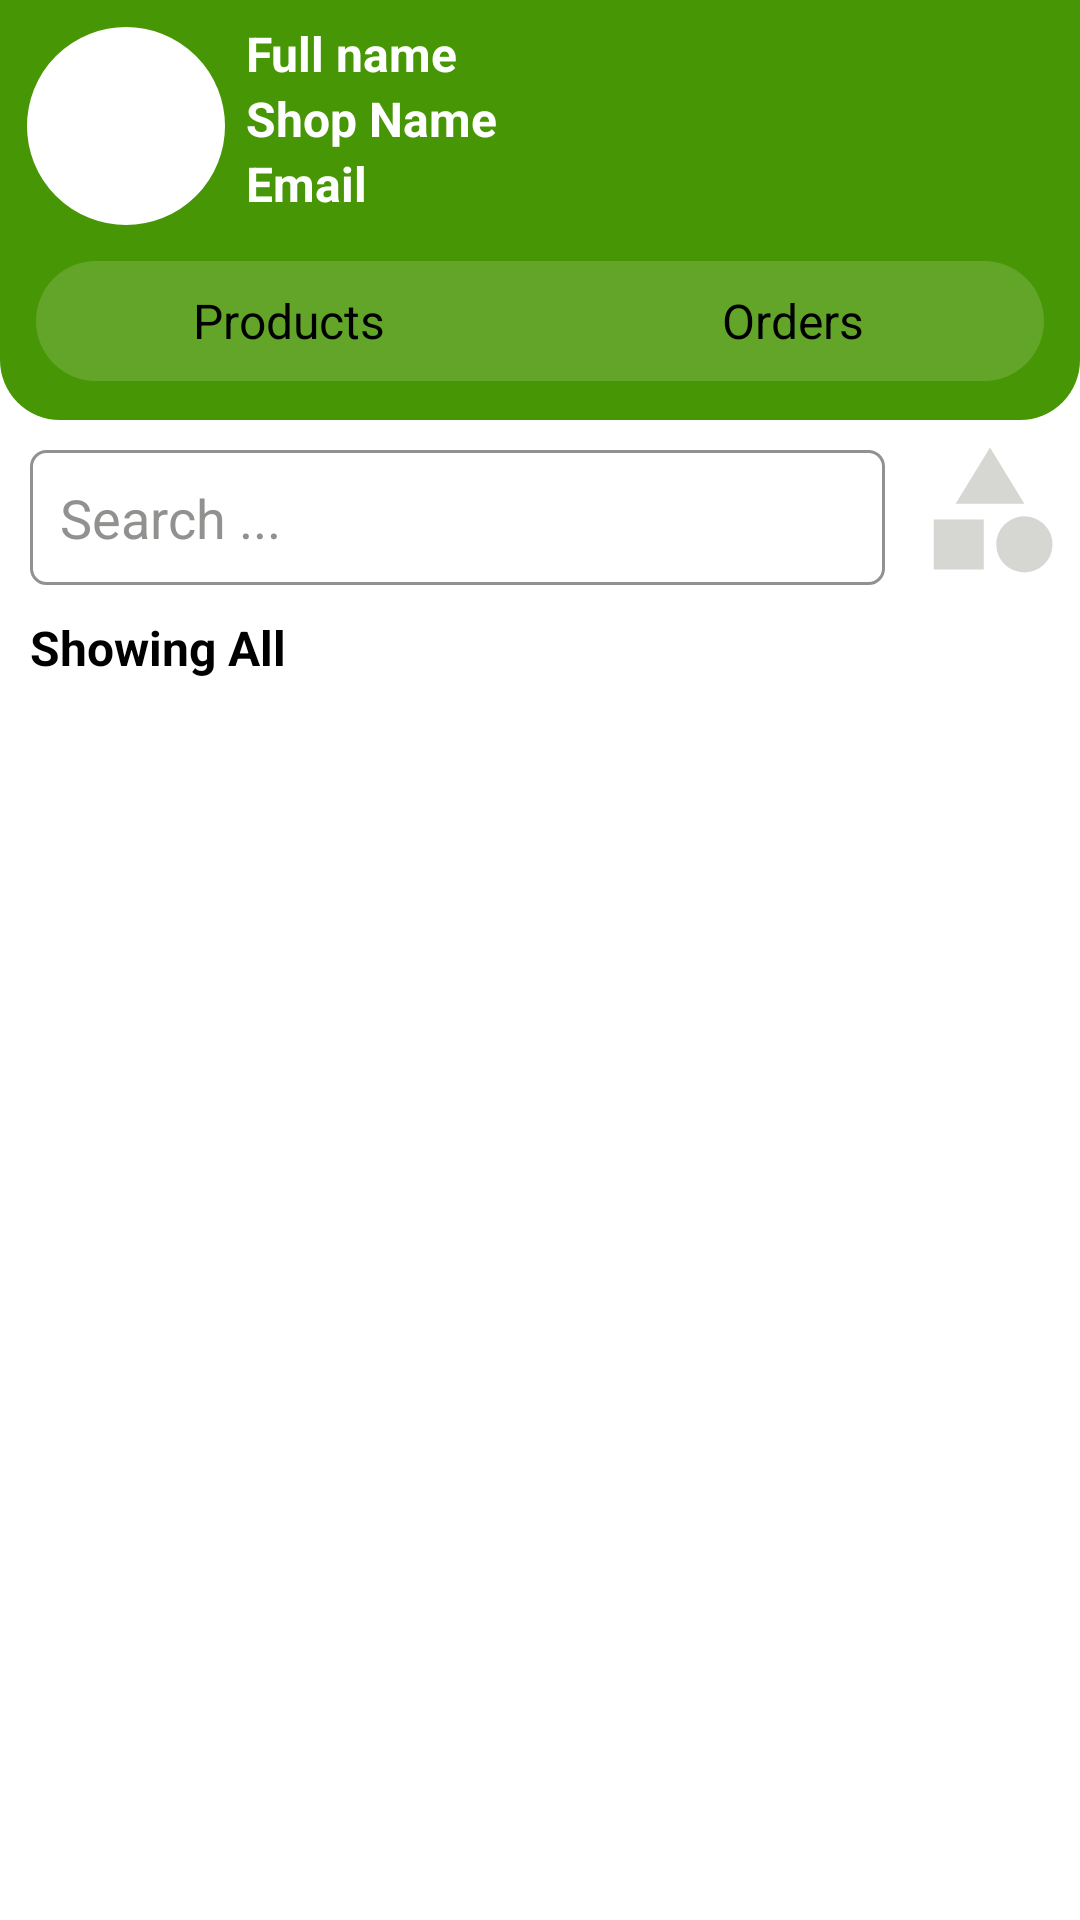

Where to tap for icons on this 1080 x 1920 app screen, as (x=x, y=y):
category: (x=993, y=510)
